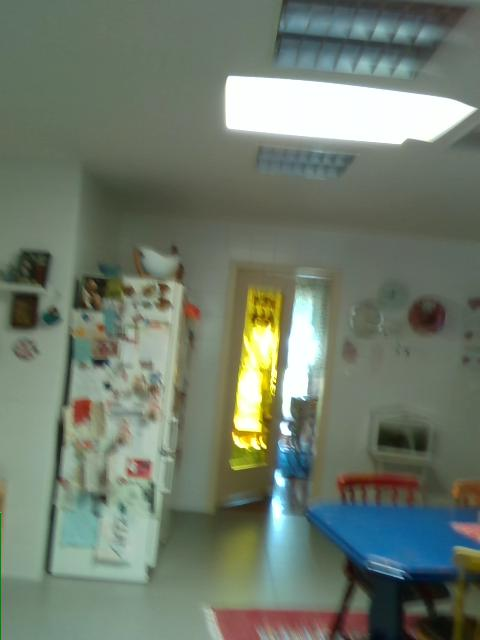semi_door: (201, 256, 342, 523)
